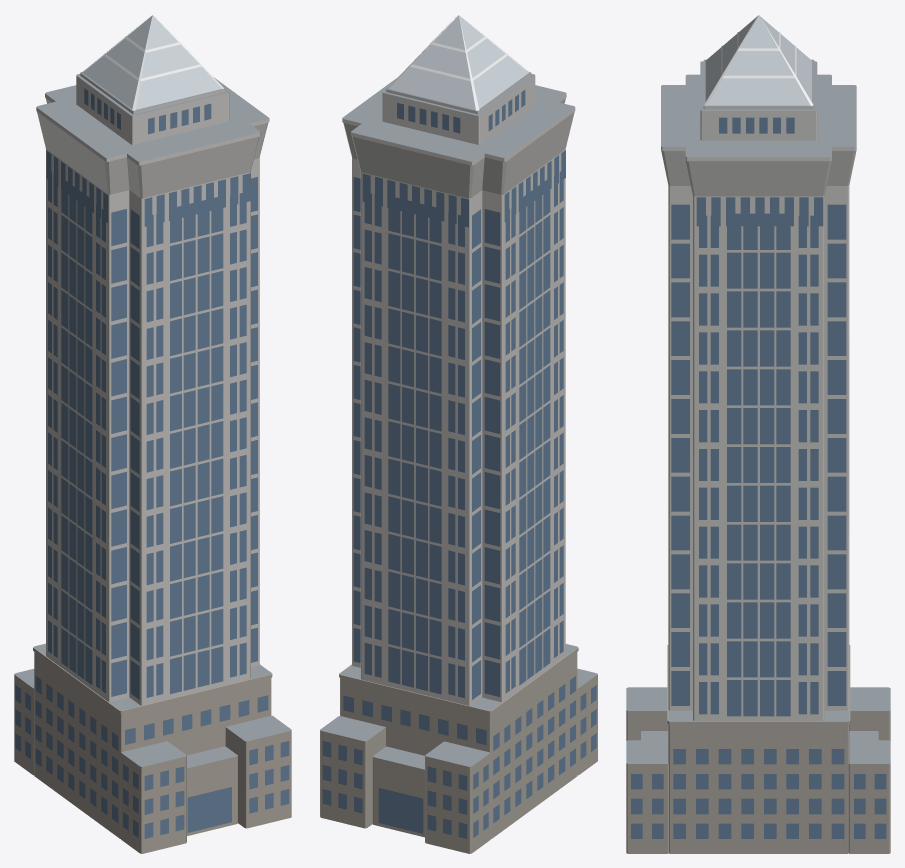
File: phl-bny-mellon-center.glb
3 renders of one model, left to right at view 1: azimuth 30°, elevation 25°; view 2: azimuth 150°, elevation 25°; view 3: azimuth 270°, elevation 25°, orthographic. The views are drawn at different scales.
Visible parts, largest first — view 1: BNY Mellon Center; view 2: BNY Mellon Center; view 3: BNY Mellon Center.
Boxes of the visible parts, x1,y1,x2,y2 form: BNY Mellon Center: (14, 15, 291, 853); BNY Mellon Center: (320, 15, 597, 853); BNY Mellon Center: (626, 15, 890, 853).
Bounding box in the file's own units: 53.4 × 241 × 72.3.
